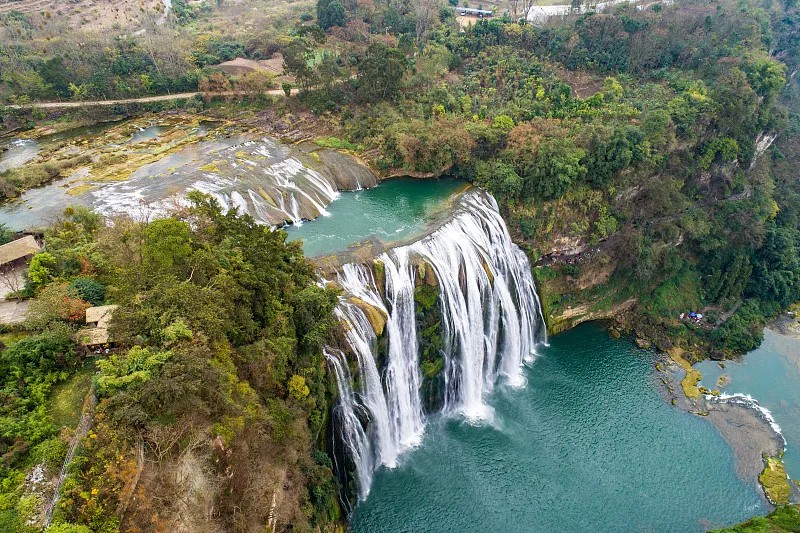Huangguoshu: (323, 188, 549, 500)
